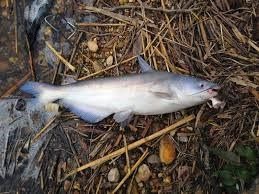Pangasius: (14, 57, 221, 125)
